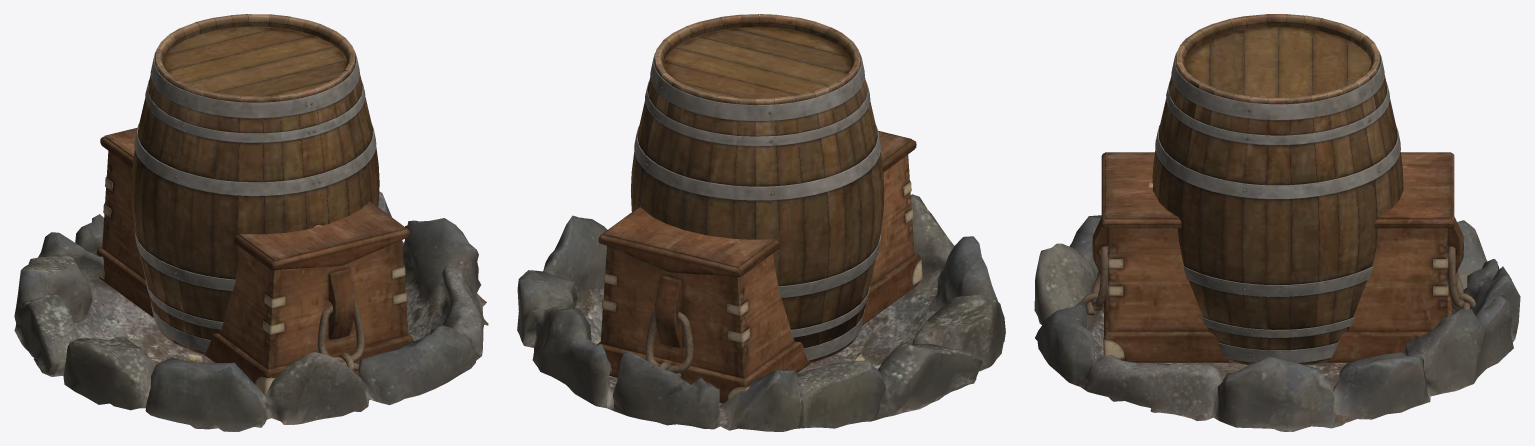
Rendered from props.glb.
The picture shows the model from 3 angles, left to right: view 1: azimuth 30°, elevation 25°; view 2: azimuth 150°, elevation 25°; view 3: azimuth 270°, elevation 25°; orthographic projection. The views are drawn at different scales.
Visible parts, largest first — view 1: barrel#2, firepit, crate#0, barrel#0, crate#1; view 2: barrel#2, firepit, crate#0, barrel#0, crate#1; view 3: barrel#2, firepit, crate#0, barrel#0, crate#1.
Part boxes in pixels (<box>): barrel#2: <box>131,14,379,354</box>; firepit: <box>14,191,488,431</box>; crate#0: <box>95,151,413,395</box>; barrel#0: <box>163,27,346,96</box>; crate#1: <box>100,128,410,270</box>; barrel#2: <box>631,14,884,362</box>; firepit: <box>517,194,1005,431</box>; crate#0: <box>596,154,922,403</box>; barrel#0: <box>663,27,851,98</box>; crate#1: <box>598,131,916,276</box>; barrel#2: <box>1152,14,1403,365</box>; firepit: <box>1034,215,1520,431</box>; crate#0: <box>1081,217,1475,362</box>; barrel#0: <box>1185,27,1371,97</box>; crate#1: <box>1101,152,1454,228</box>.
Bounding box in the file's own units: 1.45 × 1.07 × 1.43.
Materials: 4 (4 with a texture image).
